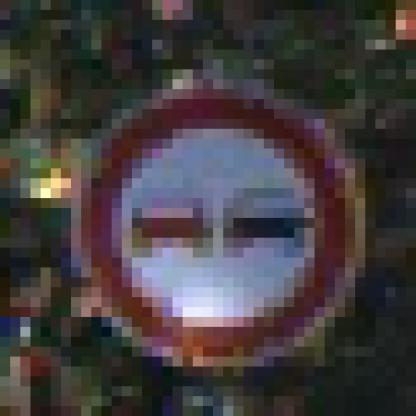No Overtaking: (52, 61, 356, 358)
